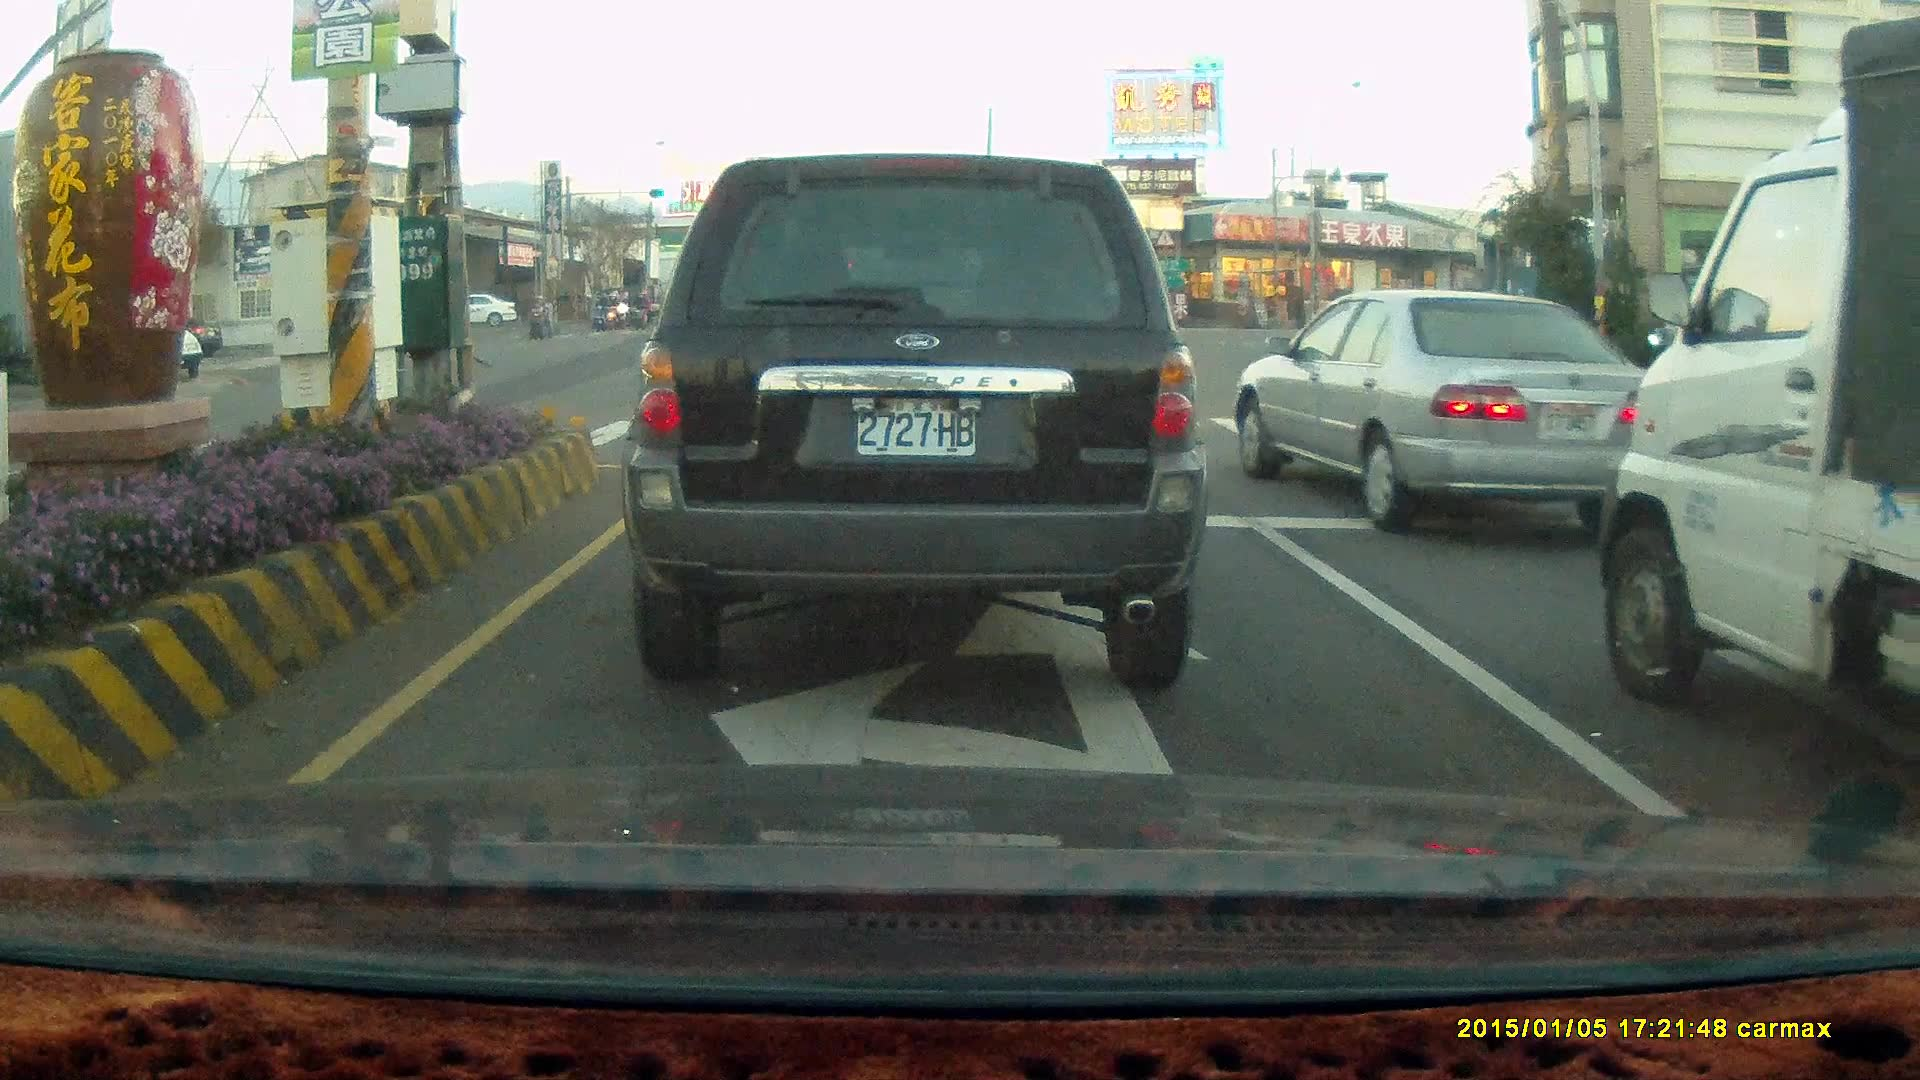rider: (522, 289, 552, 340), (628, 289, 651, 331), (589, 289, 610, 331), (593, 294, 615, 332)
vehicle: (617, 150, 1210, 695), (1592, 13, 1920, 785), (1229, 287, 1668, 534), (1232, 288, 1651, 533), (1671, 279, 1827, 371), (448, 295, 519, 328)
